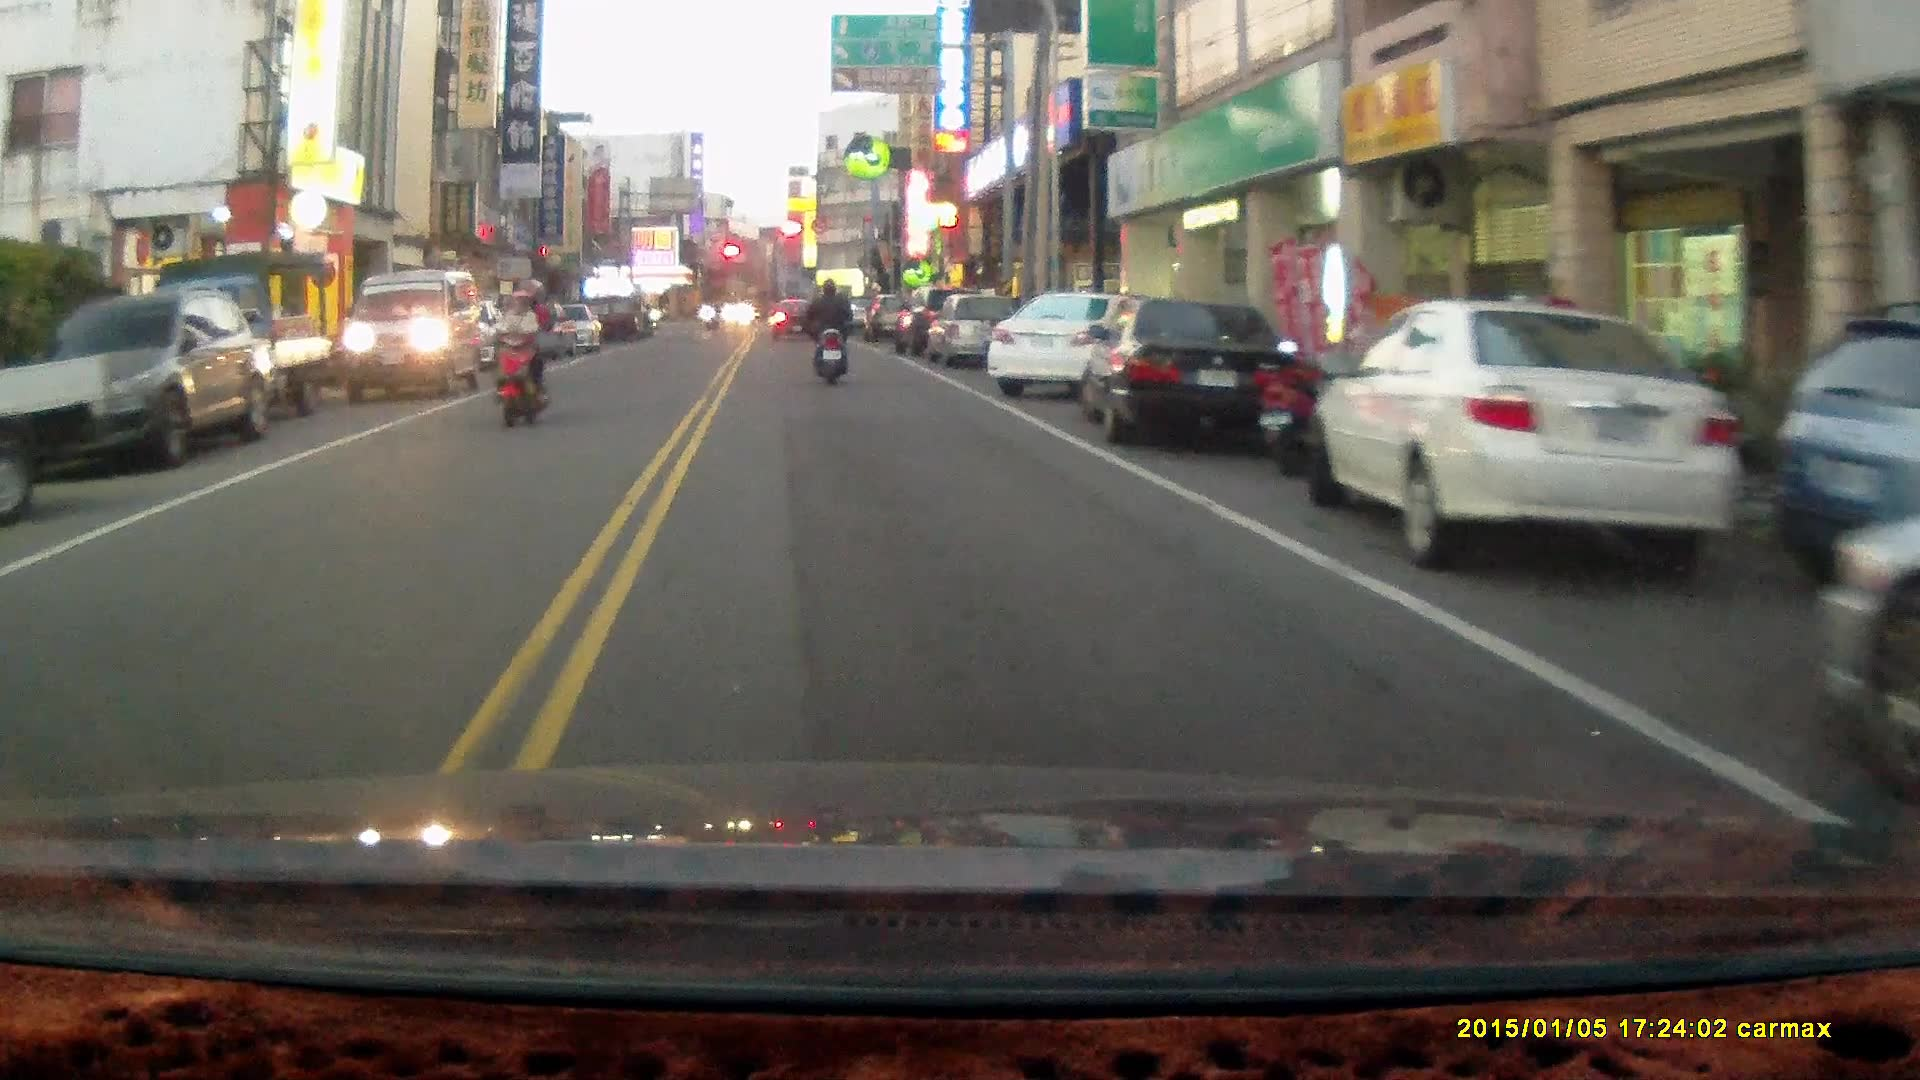rider: (489, 273, 549, 428), (805, 277, 851, 391)
vehicle: (1296, 299, 1769, 570), (20, 291, 260, 486), (127, 249, 335, 430), (1075, 298, 1292, 456), (1821, 510, 1920, 814), (982, 290, 1165, 400), (338, 268, 482, 401), (923, 291, 1024, 372)
